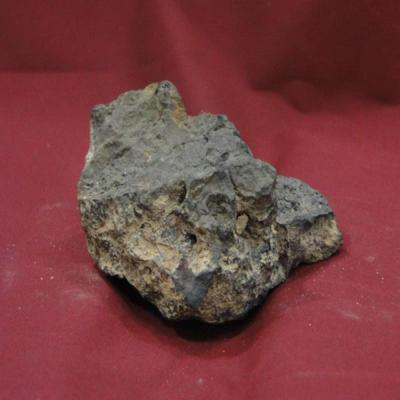mineralogy: (78, 81, 342, 323)
